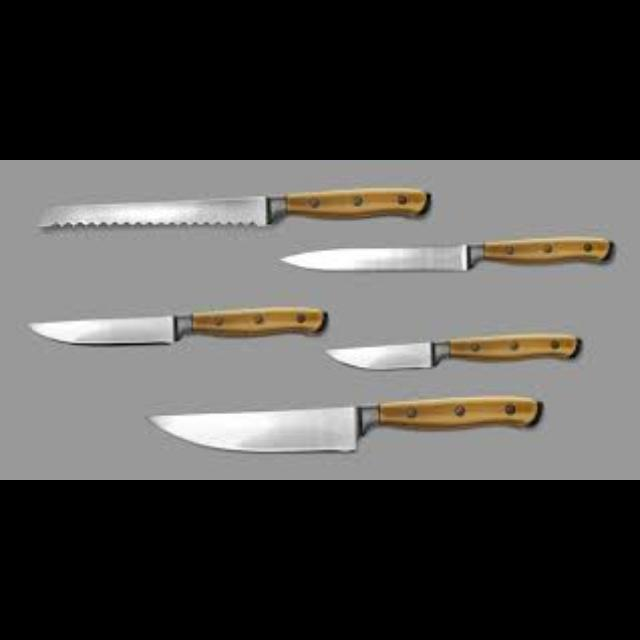Knife: (145, 396, 543, 452), (36, 186, 430, 228), (26, 305, 328, 345), (280, 235, 612, 271), (322, 331, 582, 369)
